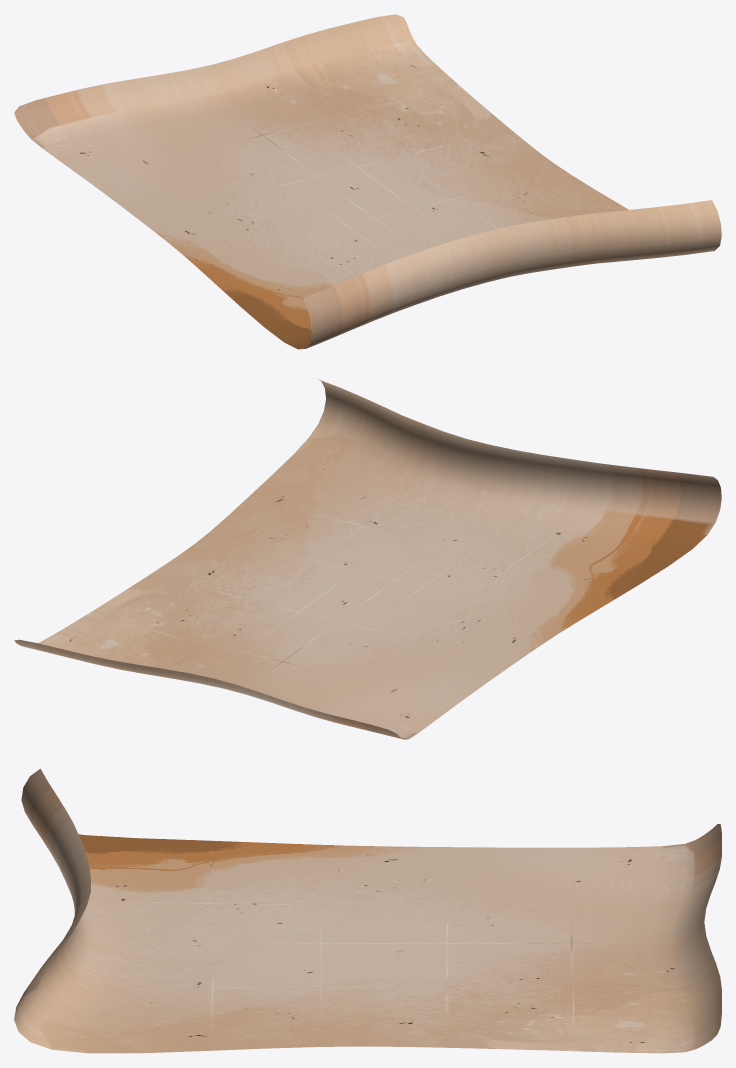
Rendered from Map.fbx.
3 renders of one model, top to bottom at view 1: azimuth 30°, elevation 25°; view 2: azimuth 150°, elevation 25°; view 3: azimuth 270°, elevation 25°, orthographic. The views are drawn at different scales.
Visible parts, largest first — view 1: Plane; view 2: Plane; view 3: Plane.
Part boxes in pixels (x1,y1,x2,y2): Plane: [14, 14, 721, 349]; Plane: [14, 379, 721, 739]; Plane: [14, 768, 721, 1053].
Bounding box in the file's own units: 174 × 24.95 × 236.
Materials: 1 (1 with a texture image).
